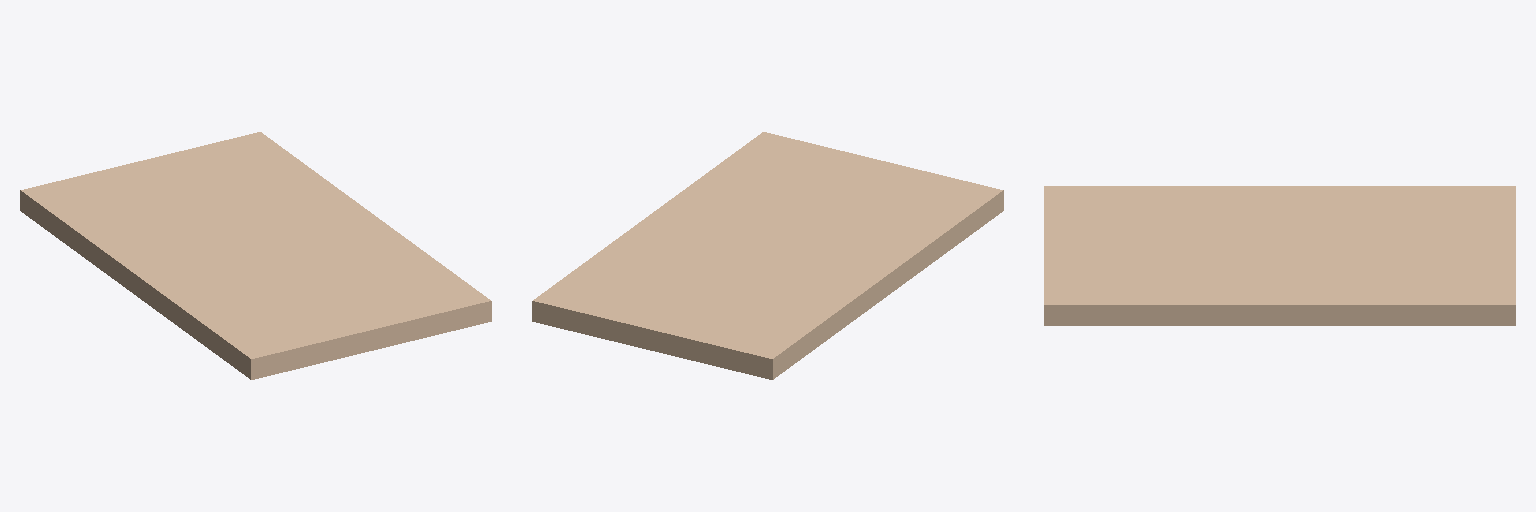
robot.urdf — table_top:
<?xml version="1.0"?>
<robot name="table_top" xmlns:drake="http://drake.mit.edu">
  <link name="table_top_link">
    <visual name="visual">
      <geometry>
        <box size="0.6 1.0 0.05"/>
      </geometry>
      <material>
       <color rgba="0.9 0.8 0.7 0.5"/>
      </material>
    </visual>
    <collision name="collision">
      <geometry>
        <box size="0.6 1.0 0.05"/>
      </geometry>
      <drake:proximity_properties>
        <drake:compliant_hydroelastic/>
        <drake:hydroelastic_modulus value="1e7"/>
        <drake:mu_dynamic value="0.5"/>
        <drake:hunt_crossley_dissipation value="1.25"/>
      </drake:proximity_properties>
    </collision>
  </link>
  <frame name="top_surface" link="table_top_link" xyz="0 0 0.025" rpy="0 0 0"/>
</robot>

--- Render facts (derived) ---
3 views of the same robot in one strip: view 1: azimuth 30°, elevation 25°; view 2: azimuth 150°, elevation 25°; view 3: azimuth 270°, elevation 25° (orthographic).
Robot: table_top — 1 links, 0 joints (none); root link table_top_link; default pose: every joint at zero.
Visible links, largest first — view 1: table_top_link; view 2: table_top_link; view 3: table_top_link.
Link boxes in pixels (x1=…): table_top_link: x1=20, y1=132, x2=491, y2=379; table_top_link: x1=532, y1=132, x2=1003, y2=379; table_top_link: x1=1044, y1=186, x2=1515, y2=325.
Size in the robot's own frame: 0.6 by 1 by 0.05 metres.
Geometry: primitives only (box / cylinder / sphere), no mesh files.